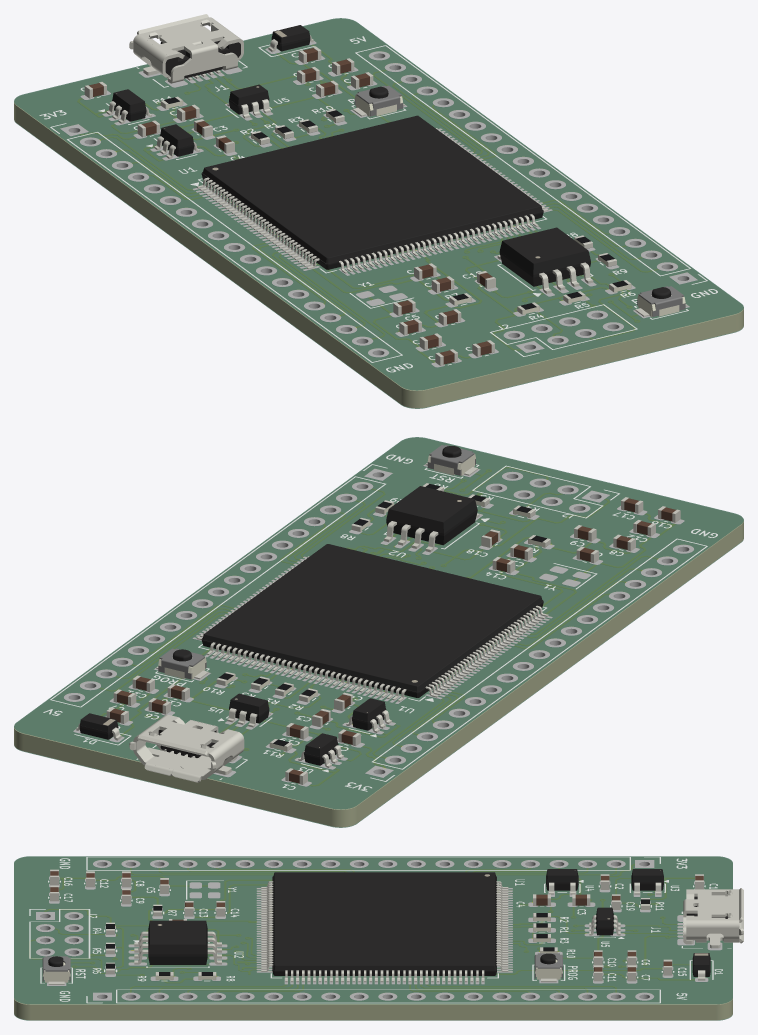
The model's file is ice40hx1k_usb_core.glb.
3 views of the same model, one above another, from view 1: azimuth 30°, elevation 25°; view 2: azimuth 150°, elevation 25°; view 3: azimuth 270°, elevation 25° (orthographic). The views are drawn at different scales.
Parts seen in each view (by area): view 1: =>[0:1:1:25], =>[0:1:1:27], =>[0:1:1:7], =>[0:1:1:21], =>[0:1:1:23], =>[0:1:1:5], =>[0:1:1:13], =>[0:1:1:20], =>[0:1:1:19] (×2), =>[0:1:1:11] (×2), =>[0:1:1:15], =>[0:1:1:26] (+1 smaller); view 2: =>[0:1:1:25], =>[0:1:1:27], =>[0:1:1:7], =>[0:1:1:21], =>[0:1:1:23], =>[0:1:1:5], =>[0:1:1:13], =>[0:1:1:20], =>[0:1:1:19] (×2), =>[0:1:1:11] (×2), =>[0:1:1:15], =>[0:1:1:26] (+1 smaller); view 3: =>[0:1:1:25], =>[0:1:1:27], =>[0:1:1:7], =>[0:1:1:21], =>[0:1:1:23], =>[0:1:1:5], =>[0:1:1:13], =>[0:1:1:20], =>[0:1:1:19] (×2), =>[0:1:1:11] (×2), =>[0:1:1:26], =>[0:1:1:15] (+1 smaller).
Boxes of the visible parts, <box> form: =>[0:1:1:25]: <box>14,18,743,390</box>; =>[0:1:1:27]: <box>14,19,743,408</box>; =>[0:1:1:7]: <box>196,115,548,273</box>; =>[0:1:1:21]: <box>60,41,697,367</box>; =>[0:1:1:23]: <box>39,36,717,372</box>; =>[0:1:1:5]: <box>129,14,243,83</box>; =>[0:1:1:13]: <box>497,227,593,293</box>; =>[0:1:1:20]: <box>77,45,657,362</box>; =>[0:1:1:19] (×2): <box>352,85,687,316</box>; =>[0:1:1:11] (×2): <box>106,89,199,158</box>; =>[0:1:1:15]: <box>227,84,270,118</box>; =>[0:1:1:26]: <box>14,121,743,408</box>; =>[0:1:1:25]: <box>14,437,743,809</box>; =>[0:1:1:27]: <box>14,438,743,827</box>; =>[0:1:1:7]: <box>196,544,548,701</box>; =>[0:1:1:21]: <box>64,464,693,786</box>; =>[0:1:1:23]: <box>43,454,717,791</box>; =>[0:1:1:5]: <box>129,714,244,782</box>; =>[0:1:1:13]: <box>384,486,479,552</box>; =>[0:1:1:20]: <box>100,467,674,785</box>; =>[0:1:1:19] (×2): <box>156,445,477,679</box>; =>[0:1:1:11] (×2): <box>298,698,391,767</box>; =>[0:1:1:15]: <box>227,693,270,727</box>; =>[0:1:1:26]: <box>14,540,743,827</box>; =>[0:1:1:25]: <box>14,856,732,1004</box>; =>[0:1:1:27]: <box>14,857,732,1020</box>; =>[0:1:1:7]: <box>261,872,508,982</box>; =>[0:1:1:21]: <box>36,860,722,1000</box>; =>[0:1:1:23]: <box>29,857,731,1003</box>; =>[0:1:1:5]: <box>683,888,743,948</box>; =>[0:1:1:13]: <box>134,920,221,964</box>; =>[0:1:1:20]: <box>32,864,694,991</box>; =>[0:1:1:19] (×2): <box>42,953,562,984</box>; =>[0:1:1:11] (×2): <box>546,869,663,894</box>; =>[0:1:1:26]: <box>14,1014,732,1020</box>; =>[0:1:1:15]: <box>589,907,620,935</box>.
Size of the model in its own units: 0.0312 by 0.00437 by 0.065.
